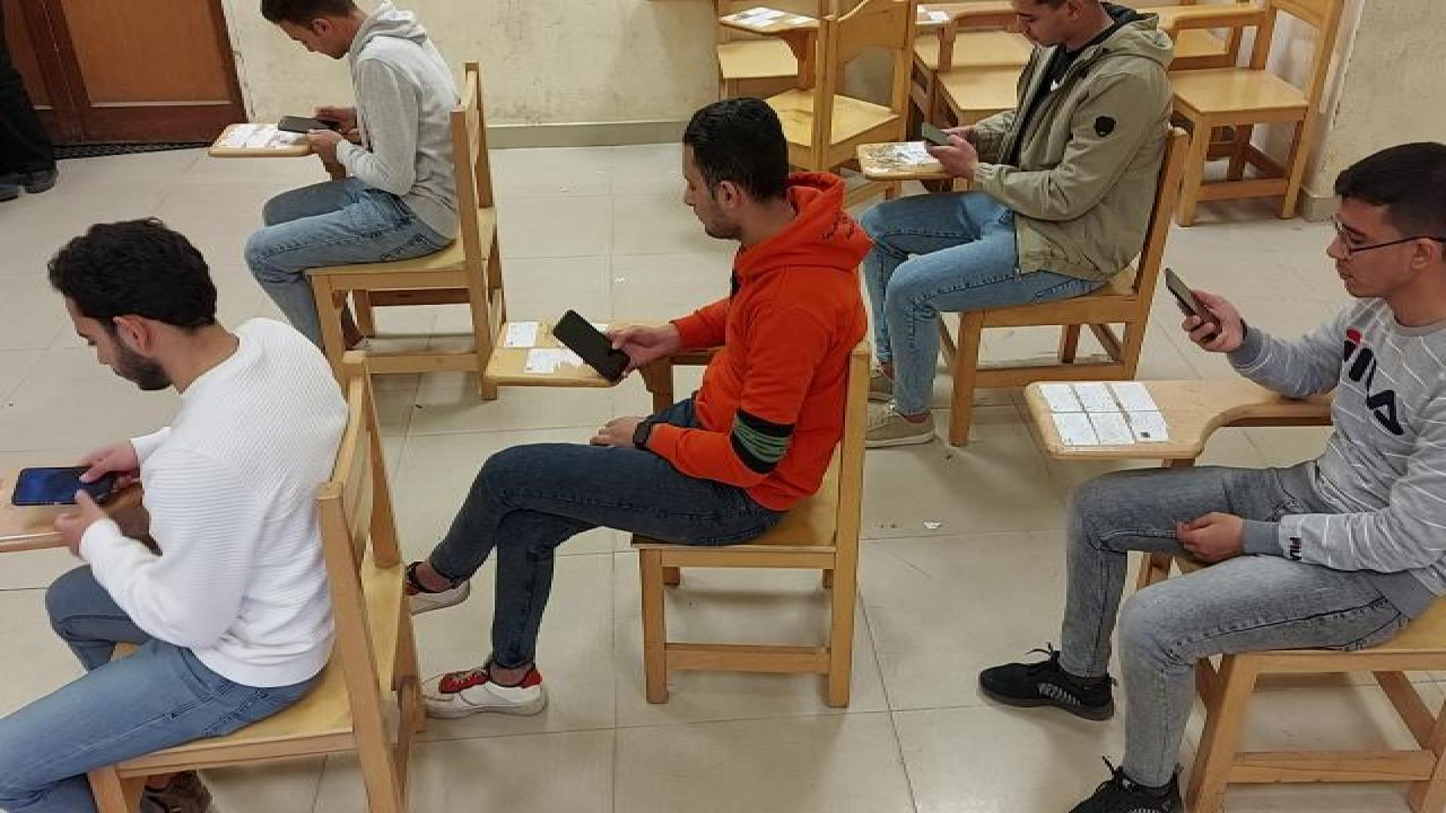phone: (548, 309, 634, 384), (1164, 265, 1225, 339), (10, 466, 114, 504), (276, 114, 343, 138), (920, 119, 953, 147)
